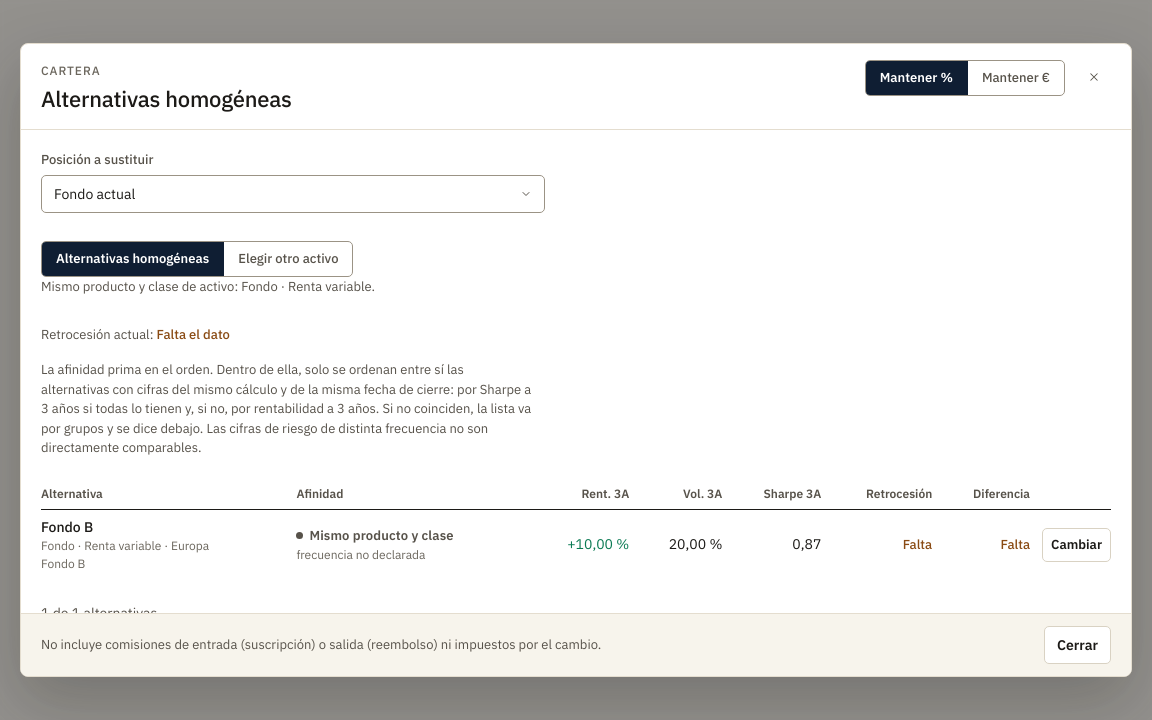
sustituir una posición › lo que no aplica a una acción › en una tabla mixta la celda dice No aplica, y la del fondo sigue con su cifra
Click the button "Elegir otro activo".
click(288, 259)  # box [223, 242, 352, 276]
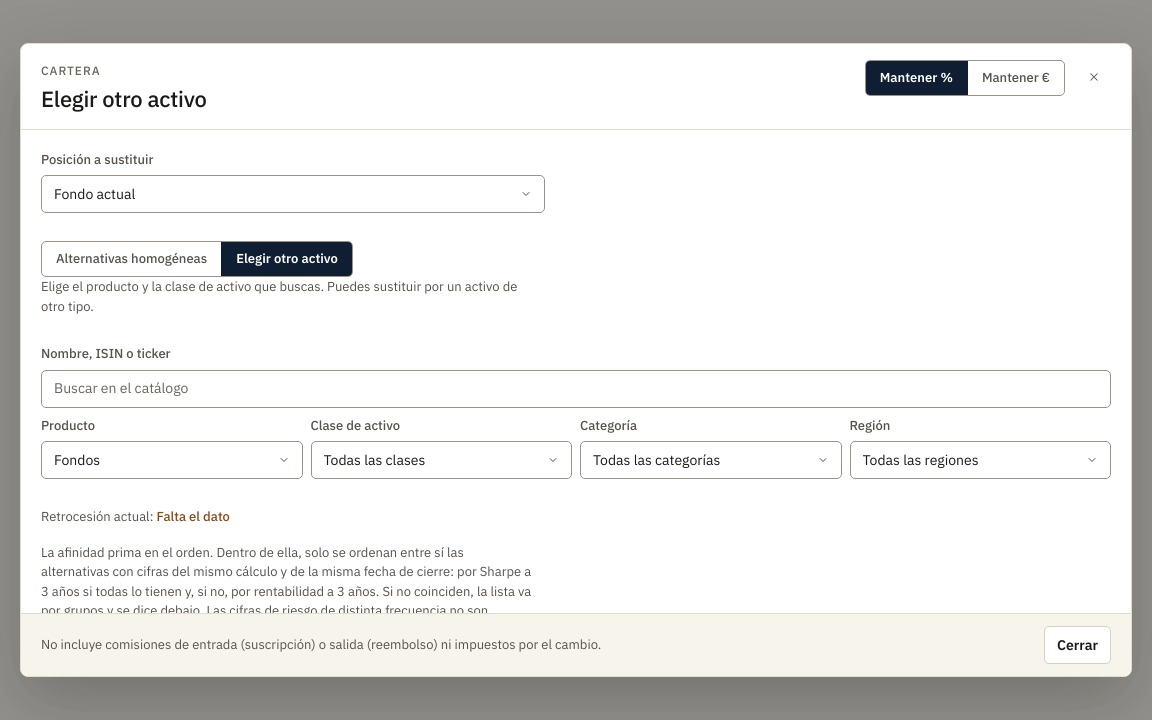
Select "Todos los productos" in the dropdown labelled "Producto" at coordinates (172, 460), box [41, 441, 302, 479]
(page scrolled)
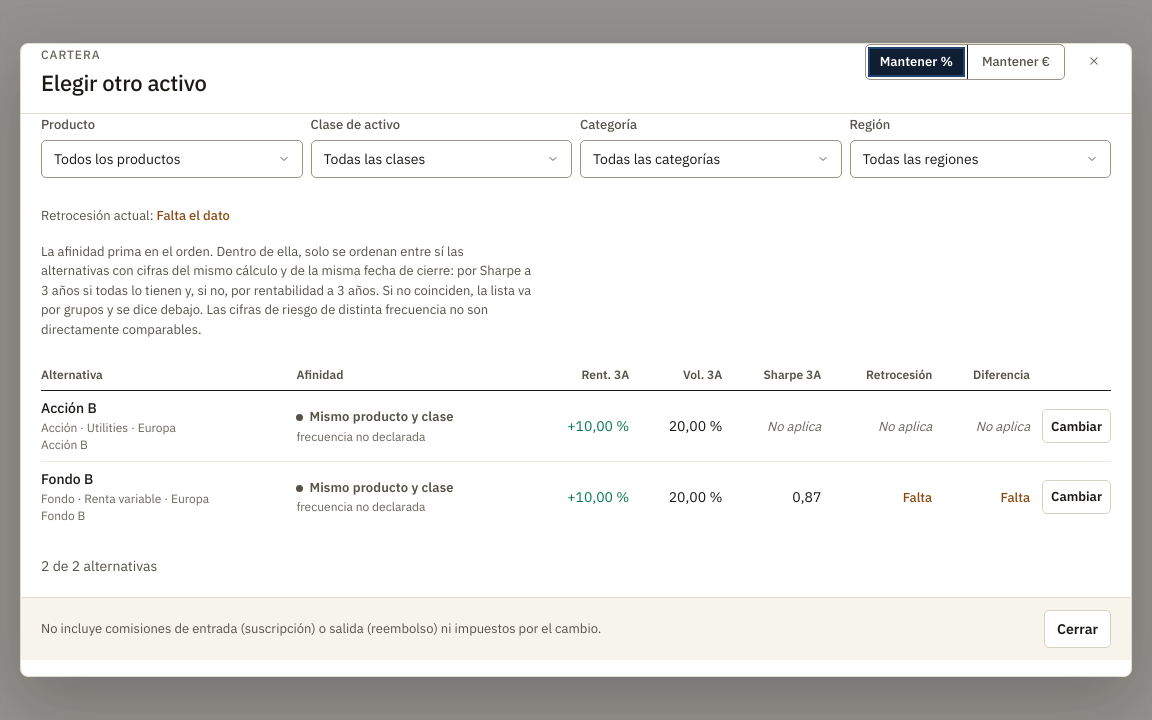
Now the row that starts with "Fondo B" shows "0,87", box [792, 488, 821, 506]
Now the row that starts with "Acción B" shows "No aplica", box [767, 418, 821, 435]
